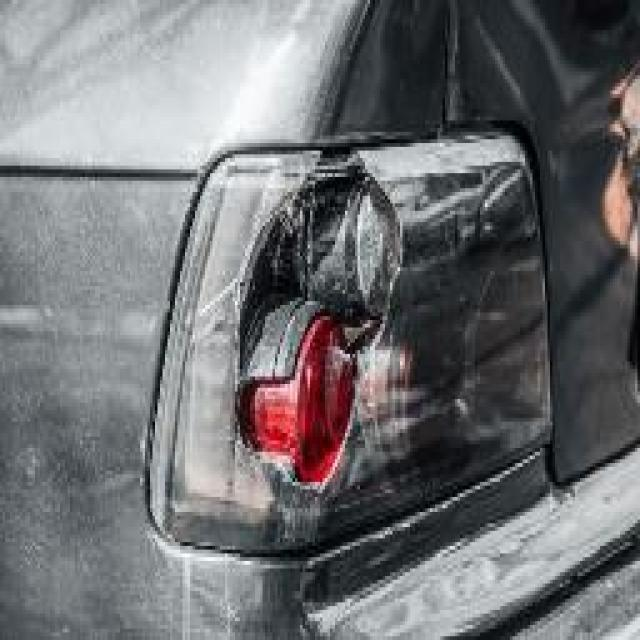Light: (218, 154, 522, 504)
